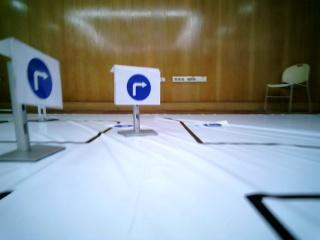right: (12, 42, 63, 108), (117, 67, 163, 104)
